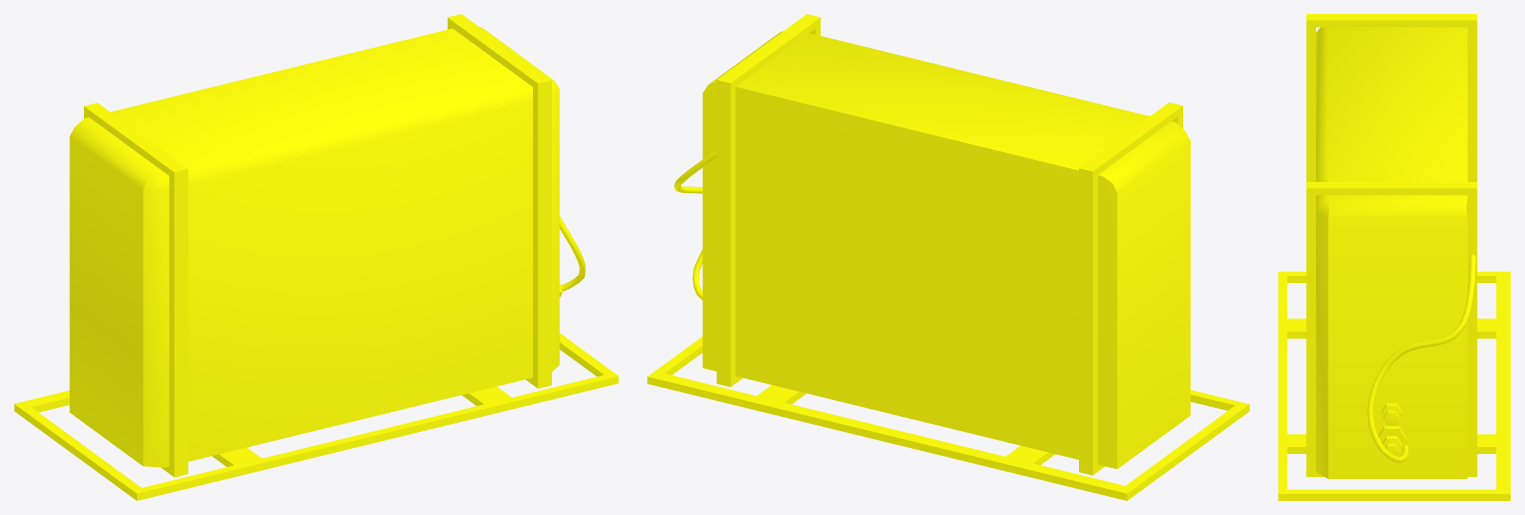
Rendered from SM_AirConditioner01.glb.
The picture shows the model from 3 angles, left to right: view 1: azimuth 30°, elevation 25°; view 2: azimuth 150°, elevation 25°; view 3: azimuth 270°, elevation 25°; orthographic projection. The views are drawn at different scales.
Visible parts, largest first — view 1: SM_AirConditioner01_LOD0; view 2: SM_AirConditioner01_LOD0; view 3: SM_AirConditioner01_LOD0.
Part boxes in pixels (box(x1,y1,x2,y2)): SM_AirConditioner01_LOD0: box(14, 14, 618, 500); SM_AirConditioner01_LOD0: box(647, 14, 1249, 500); SM_AirConditioner01_LOD0: box(1278, 14, 1510, 500).
Size of the model in its own units: 0.8514 by 0.4939 by 0.3603.
1 material, 1 textured.
